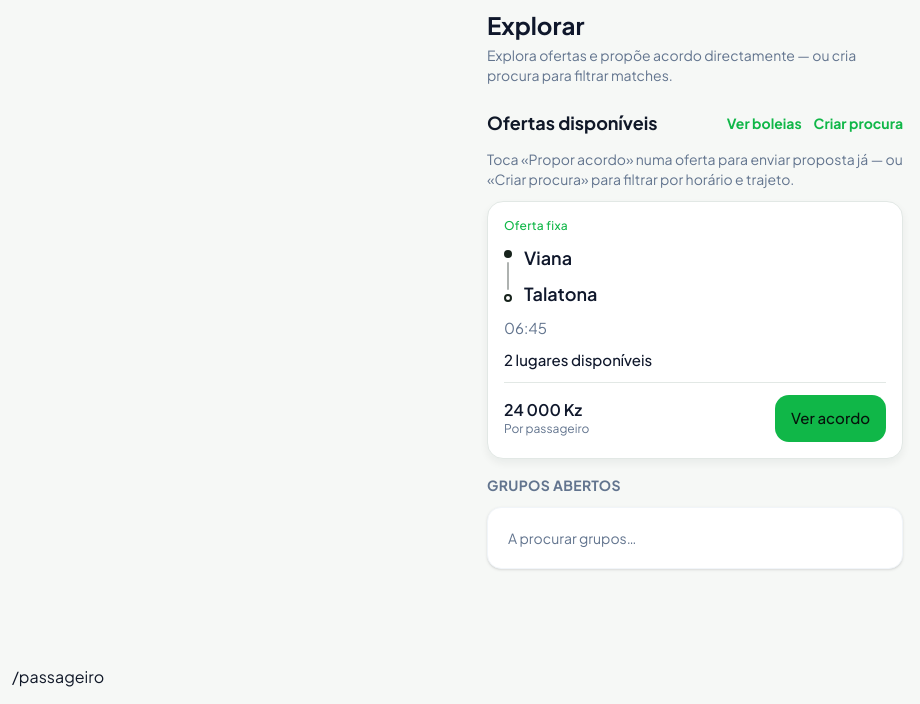
PassengerDashboard — marketplace › com acordo activo na oferta mostra CTA «Ver acordo»
Click the button "Ver acordo": point(831, 418) [775,395,886,442]
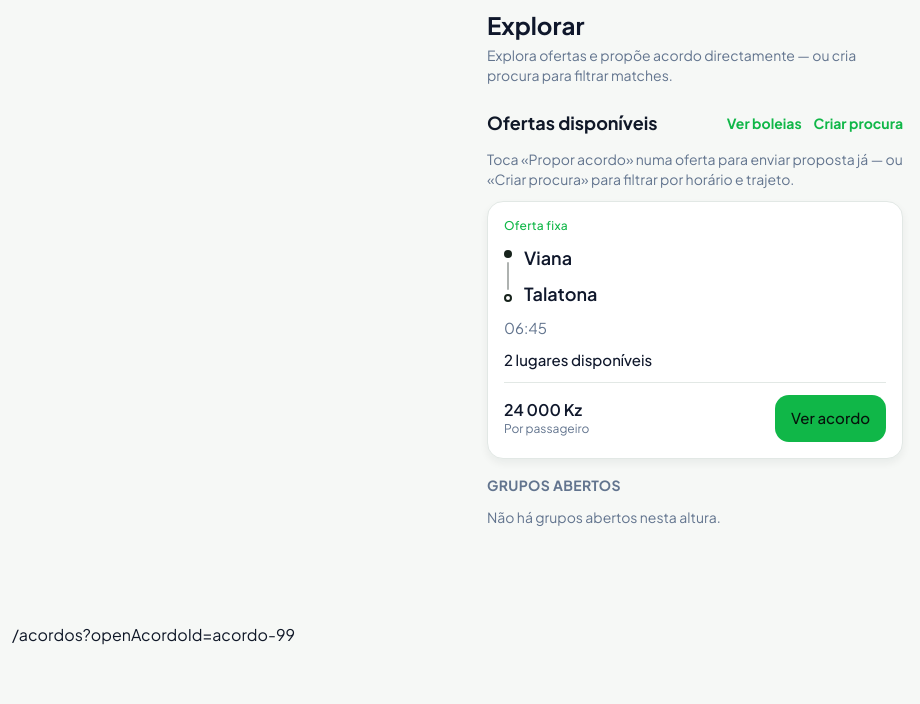
Check: the text with test id "location-probe" reads "/acordos?openAcordoId=acordo-99", box [12,624,295,644]
